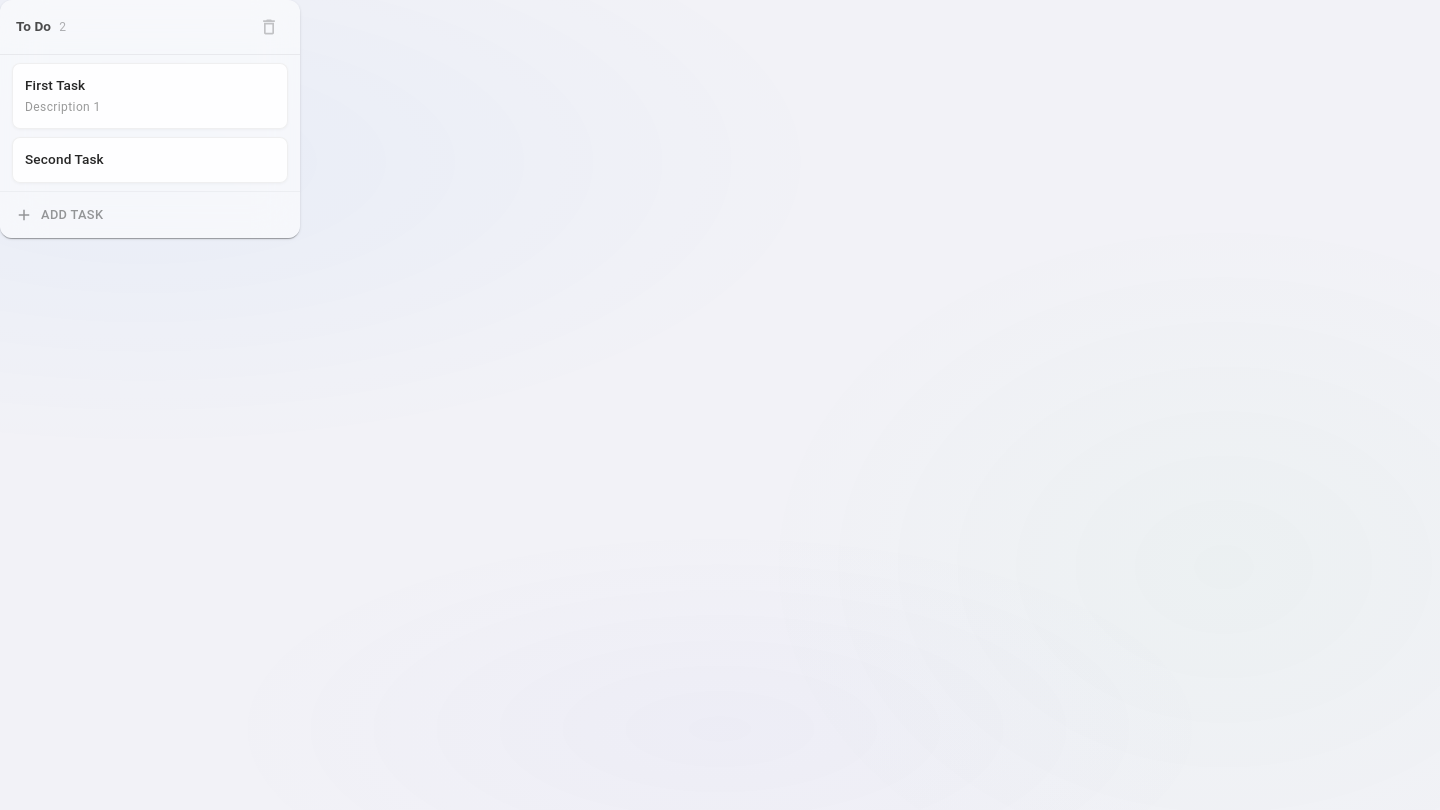
KanbanColumn › shows delete confirmation dialog
The width and height of the screenshot is (1440, 810).
What coordinates should you click on to do the following:
click the 1st button
I would click on:
 (269, 27)
Its box is [254, 12, 284, 42].
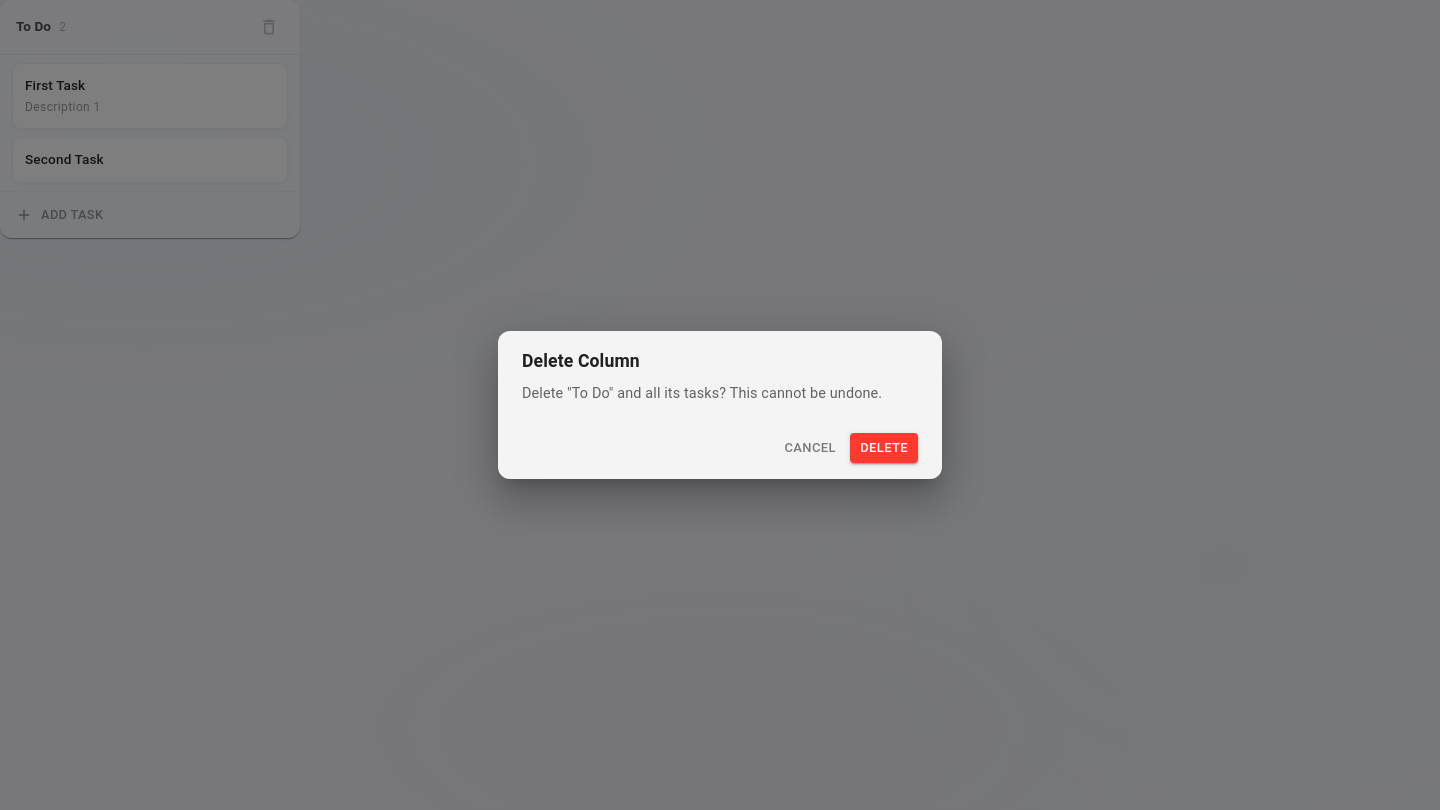
expect the heading "Delete Column" is shown: met, box [522, 351, 640, 371]
expect the text "Delete \"To Do\" and all its tasks? This cannot be undone." is shown: met, box [522, 383, 918, 404]
